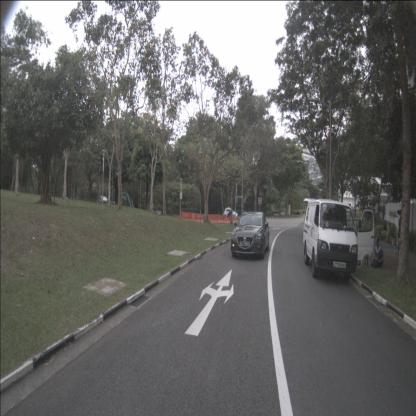barrier: (208, 214, 217, 223), (181, 212, 190, 221), (216, 214, 224, 224), (229, 214, 236, 224), (223, 214, 230, 224), (197, 214, 204, 223), (190, 213, 197, 222)
